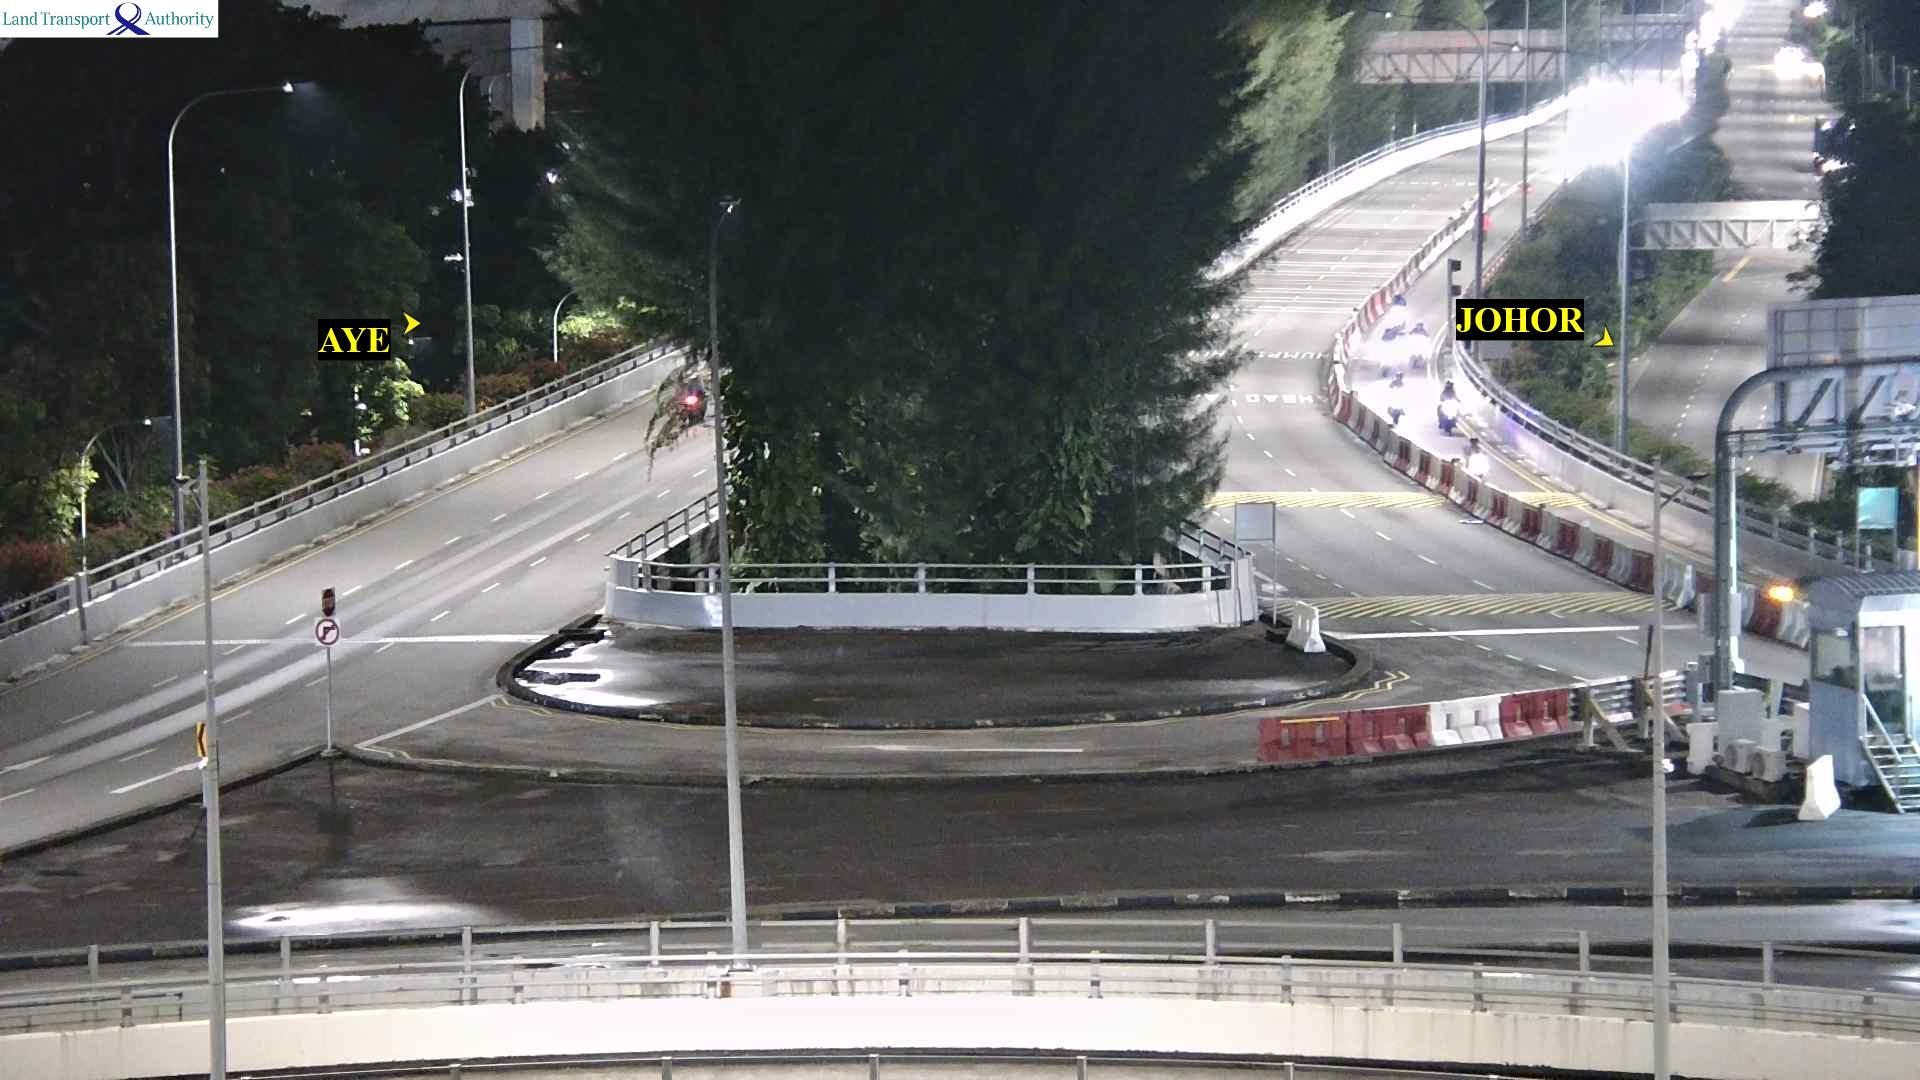vehicle-secondlink-johor: (1442, 393, 1464, 436), (1386, 377, 1407, 422), (1408, 324, 1429, 359), (1392, 287, 1404, 334)
